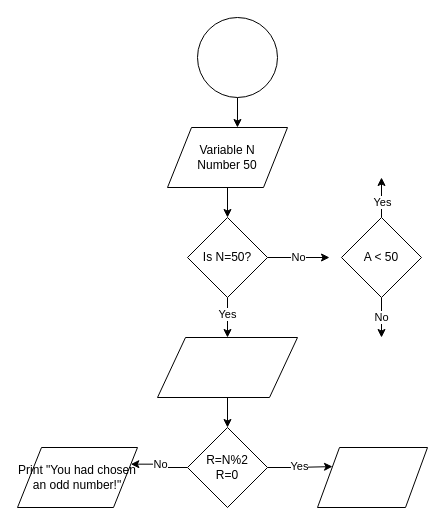
The diagram is 445 pixels wide and 525 high, and some of its shapes have lost their labels. The shapes that lost their labels are listed below. From the top down, each one's centre as x and y in pixels, then its label:
point (237, 57): Start
point (227, 367): Print "You made it!"
point (372, 477): Print "You had chosen an even number!"
